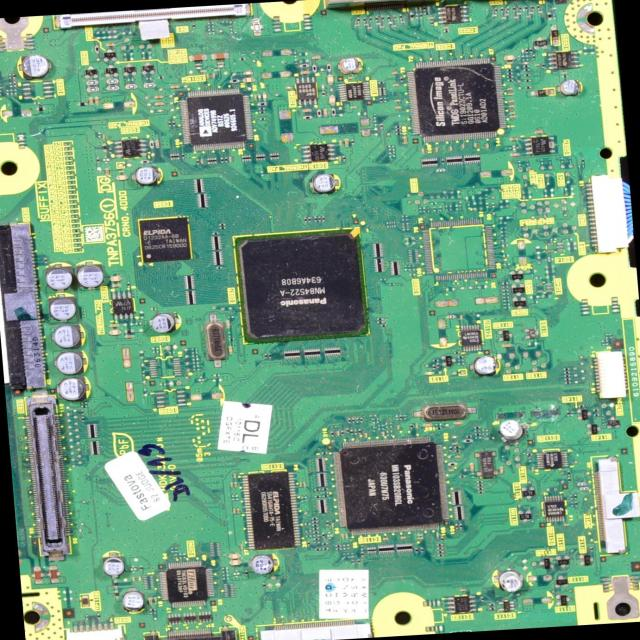Capacitor: (57, 375, 87, 403), (49, 292, 76, 323), (44, 265, 75, 291), (56, 348, 84, 376), (54, 324, 85, 347), (21, 54, 49, 78), (78, 262, 104, 287), (133, 165, 162, 186), (499, 570, 524, 594), (312, 172, 338, 195), (250, 555, 276, 577), (474, 355, 498, 377), (152, 314, 174, 334), (104, 556, 125, 576), (123, 592, 144, 610), (560, 80, 580, 96), (340, 58, 360, 73), (188, 52, 209, 62), (209, 52, 230, 62), (108, 329, 124, 338), (328, 95, 338, 108), (229, 559, 241, 568), (326, 74, 335, 86), (228, 553, 243, 560), (504, 55, 517, 61), (301, 108, 316, 113), (241, 78, 255, 83), (323, 108, 329, 118)
IC: (230, 225, 371, 343), (328, 437, 450, 537), (406, 57, 509, 145), (178, 89, 254, 152), (242, 471, 301, 552), (157, 562, 215, 609), (137, 217, 192, 262), (109, 291, 138, 322), (303, 142, 340, 165), (114, 138, 150, 160), (436, 2, 470, 25), (444, 594, 478, 616), (543, 495, 568, 524), (338, 82, 372, 103), (523, 136, 556, 156), (294, 76, 319, 102), (459, 325, 482, 352), (536, 451, 570, 469), (548, 52, 580, 71), (496, 600, 517, 614)
Resistor Network: (106, 78, 121, 86), (124, 83, 139, 91), (142, 82, 157, 89), (105, 85, 121, 91), (85, 79, 100, 85), (85, 86, 100, 92)
Transistor: (556, 555, 574, 571), (510, 281, 528, 297), (522, 326, 540, 342), (496, 328, 514, 344), (519, 485, 538, 500), (439, 354, 459, 368), (606, 415, 622, 431), (586, 421, 602, 437), (538, 556, 554, 572), (102, 48, 118, 64), (139, 62, 156, 77), (511, 296, 529, 310), (579, 552, 594, 568), (555, 593, 572, 607), (105, 64, 122, 78), (578, 407, 590, 425), (506, 270, 524, 282), (517, 509, 532, 523), (555, 574, 569, 589), (84, 66, 99, 80), (122, 64, 138, 77)
